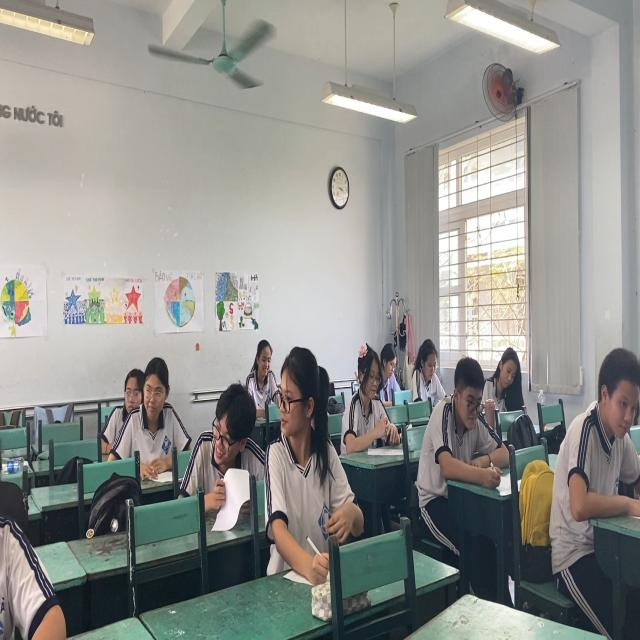cheating: (276, 347, 339, 550), (123, 358, 189, 458), (199, 381, 259, 488)
not_cheating: (552, 326, 638, 506), (428, 351, 498, 485), (338, 339, 405, 467), (406, 323, 446, 395), (484, 337, 520, 402), (251, 340, 275, 405)
